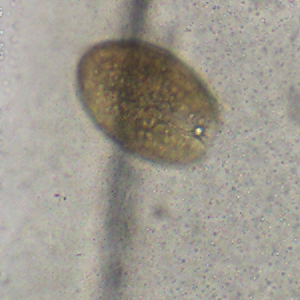Fasciola_hepatica_egg: (74, 36, 220, 167)
